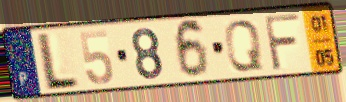5: (76, 27, 115, 86)
6: (171, 17, 212, 83)
8: (130, 26, 166, 81)
F: (261, 12, 302, 74)
L: (37, 30, 81, 93)
Q: (222, 18, 266, 74)
